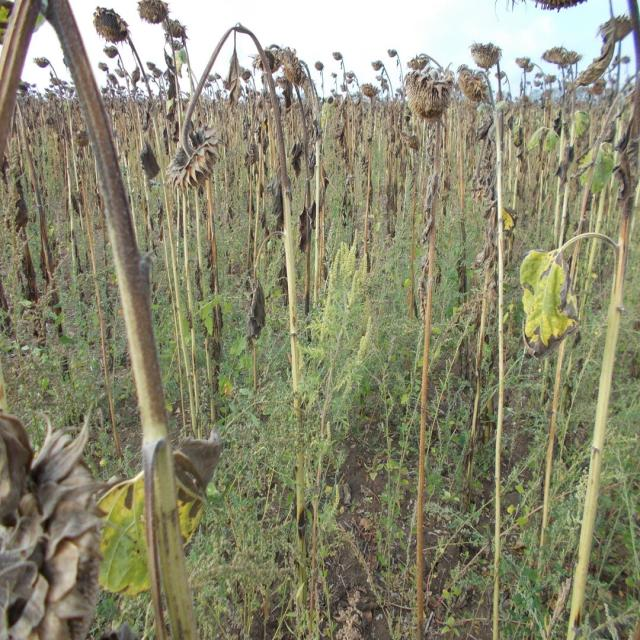ambrosia: (313, 214, 390, 417)
